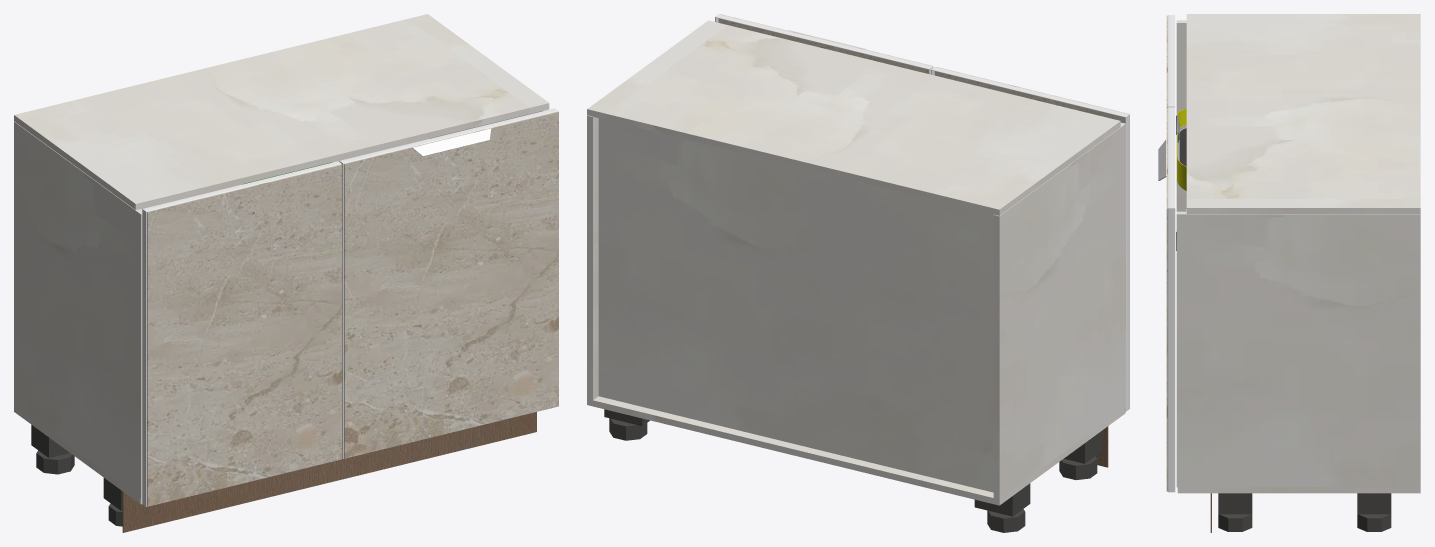
File: S550_BBCLC1HS_LH_EH (H720xW1050xD560).glb
3 renders of one model, left to right at view 1: azimuth 30°, elevation 25°; view 2: azimuth 150°, elevation 25°; view 3: azimuth 270°, elevation 25°, orthographic. The views are drawn at different scales.
Size of what is drawn, in the model's own units: 1.05 by 0.82 by 0.5999.
16 materials, 3 textured.
